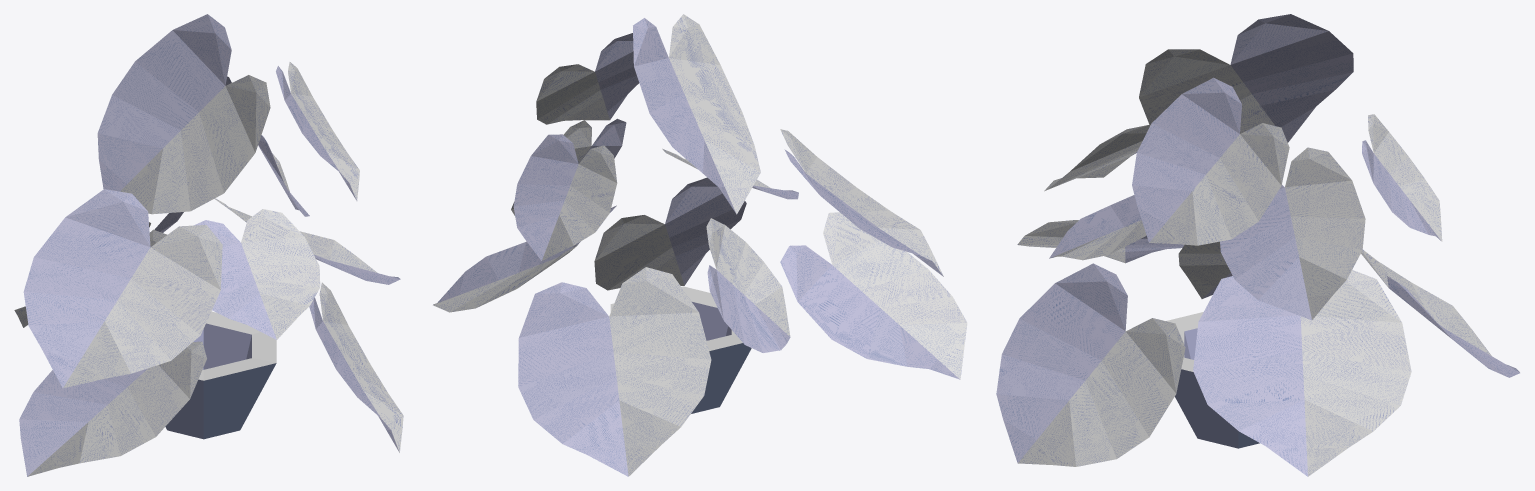
The model's file is Prop_Plant_Small.fbx.
The picture shows the model from 3 angles, left to right: view 1: azimuth 30°, elevation 25°; view 2: azimuth 150°, elevation 25°; view 3: azimuth 270°, elevation 25°; orthographic projection. The views are drawn at different scales.
Visible parts, largest first — view 1: Plant_small; view 2: Plant_small; view 3: Plant_small.
Boxes of the visible parts, x1,y1,x2,y2 form: Plant_small: (14, 14, 403, 476); Plant_small: (433, 14, 967, 476); Plant_small: (996, 14, 1519, 476).
Size of the model in its own units: 455 by 375 by 415.
